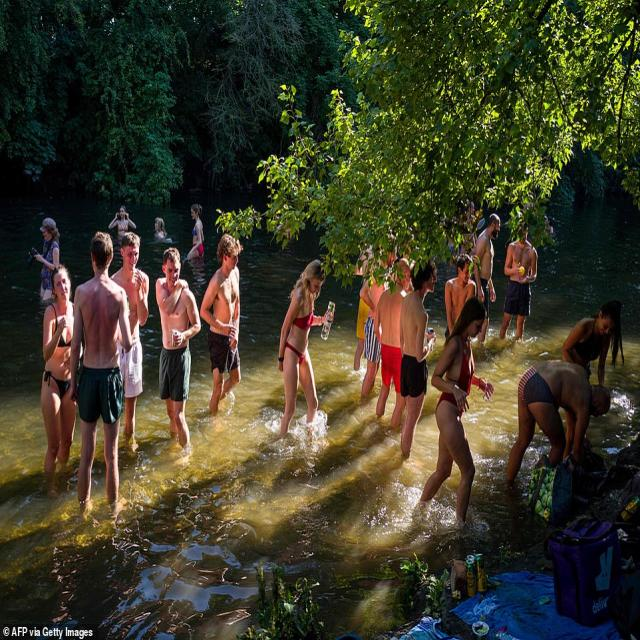Walking: (70, 231, 135, 514), (422, 295, 494, 523), (508, 362, 608, 486), (156, 247, 202, 451), (398, 258, 443, 463), (109, 231, 150, 448), (280, 255, 328, 437), (201, 235, 247, 421), (41, 266, 80, 477), (373, 252, 412, 433), (562, 303, 624, 408), (498, 220, 538, 341), (353, 240, 381, 378), (470, 213, 499, 342), (445, 252, 480, 345), (34, 217, 61, 304), (183, 204, 204, 260), (109, 205, 137, 238), (153, 217, 171, 241)
human: (595, 299, 626, 365), (290, 259, 324, 312), (461, 201, 480, 257), (50, 262, 70, 298), (544, 216, 555, 236), (192, 204, 202, 216)
loitering: (15, 193, 582, 547)
